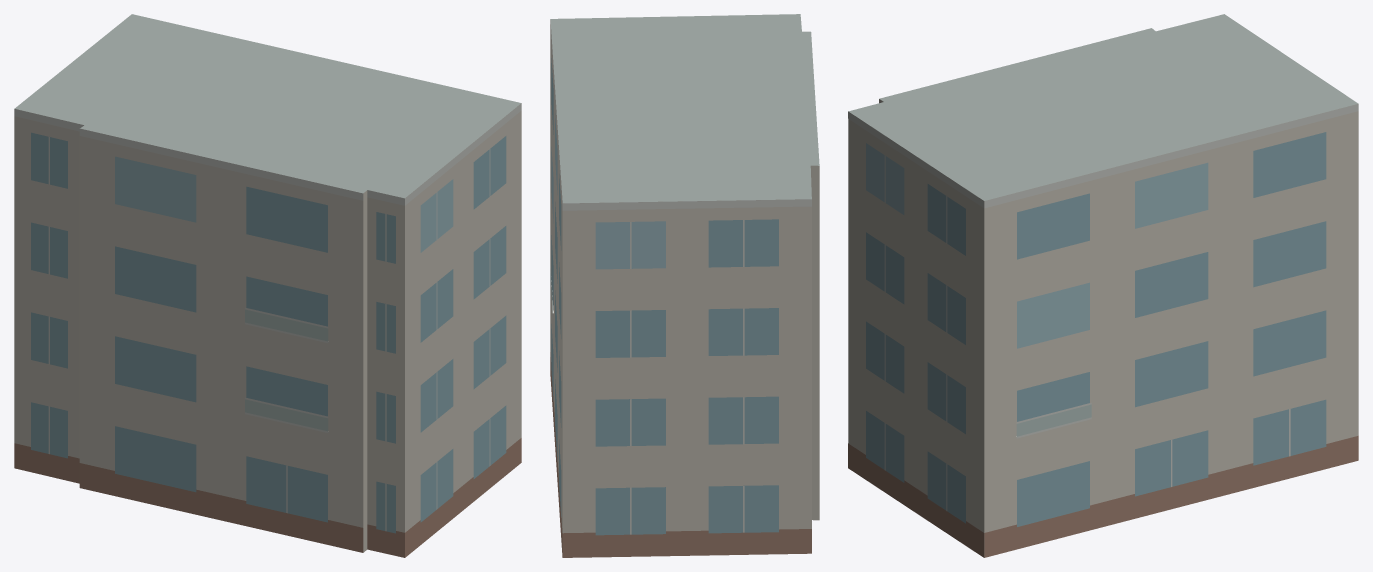
File: survey-upis-32530174.glb
The picture shows the model from 3 angles, left to right: view 1: azimuth 30°, elevation 25°; view 2: azimuth 150°, elevation 25°; view 3: azimuth 270°, elevation 25°; orthographic projection.
Parts seen in each view (by area): view 1: survey-upis-32530174.tmp; view 2: survey-upis-32530174.tmp; view 3: survey-upis-32530174.tmp.
Part boxes in pixels (<box>): survey-upis-32530174.tmp: <box>14,14,521,557</box>; survey-upis-32530174.tmp: <box>550,14,819,557</box>; survey-upis-32530174.tmp: <box>848,14,1358,557</box>.
Size of the model in its own units: 13.27 by 11.8 by 15.31.
